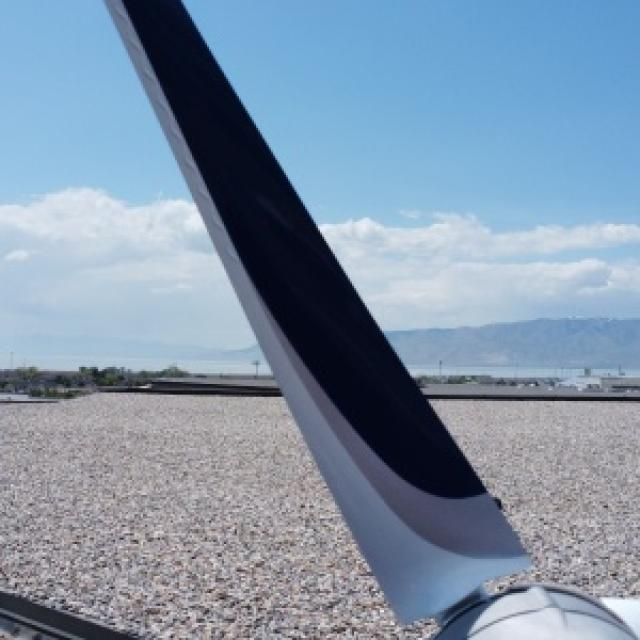healthy: (433, 582, 638, 638)
